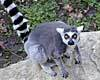cat: (6, 0, 85, 72)
